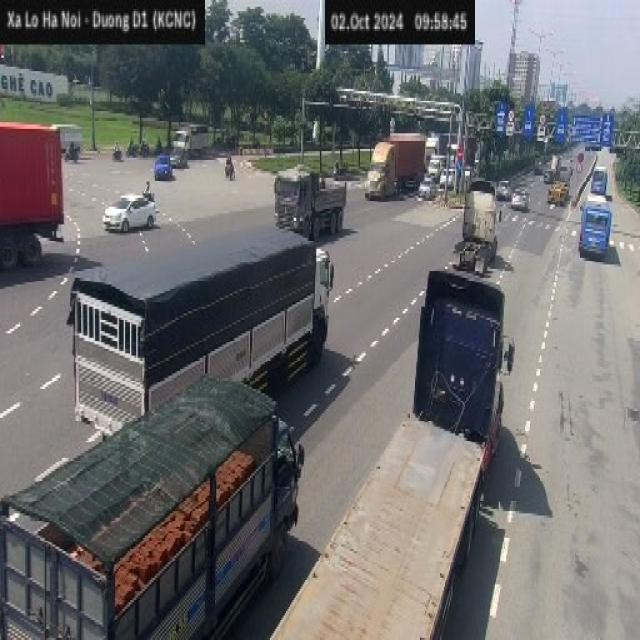bus: (577, 188, 615, 264)
car: (102, 191, 158, 231), (154, 153, 172, 178)
container-truck: (268, 266, 514, 638), (0, 120, 64, 269), (452, 176, 503, 282), (364, 131, 426, 198)
truck: (0, 371, 304, 638), (66, 224, 334, 436), (272, 164, 346, 238)
